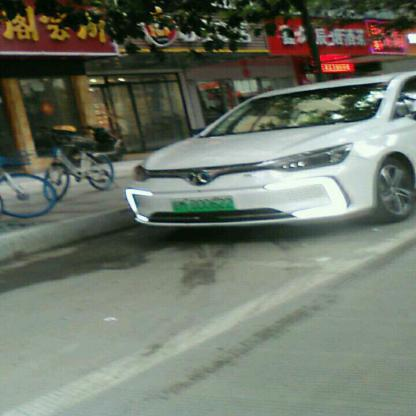lp: (170, 194, 235, 212)
